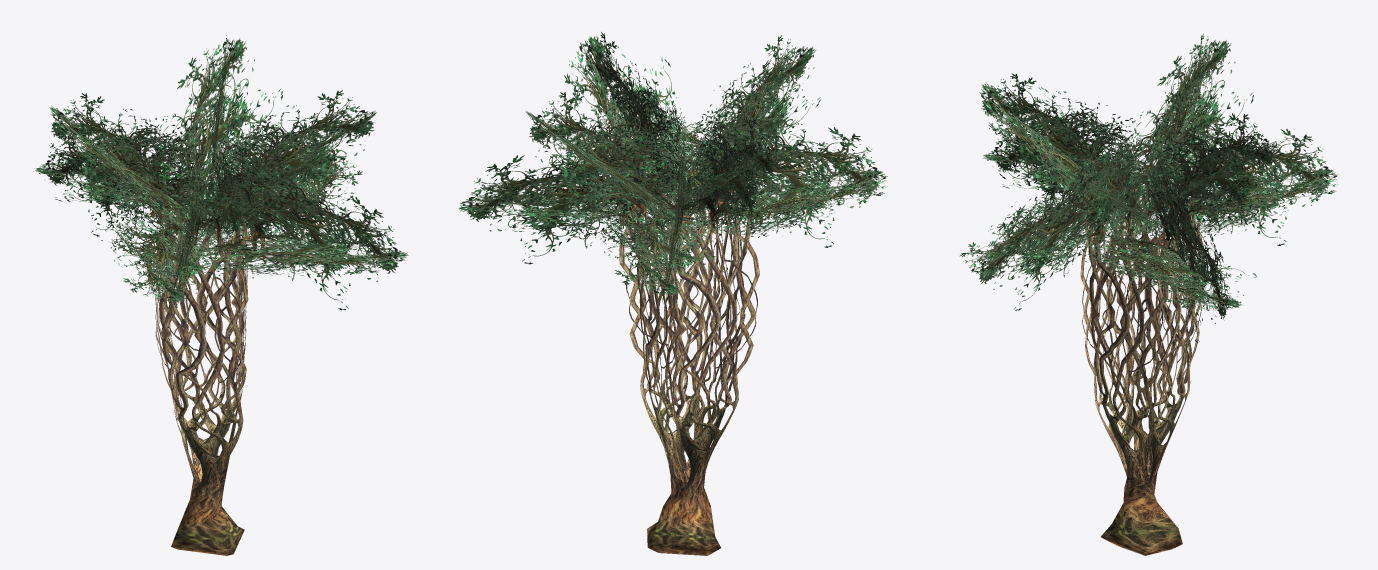
Rendered from decd_flutevine_a1_l1.fbx.
3 views of the same model, side by side, from view 1: azimuth 30°, elevation 25°; view 2: azimuth 150°, elevation 25°; view 3: azimuth 270°, elevation 25° (orthographic). The views are drawn at different scales.
Parts seen in each view (by area): view 1: mesh_node; view 2: mesh_node; view 3: mesh_node.
Boxes of the visible parts, <box> form: mesh_node: <box>33,35,408,555</box>; mesh_node: <box>458,32,887,555</box>; mesh_node: <box>959,33,1338,555</box>.
Size of the model in its own units: 14.29 by 18.61 by 15.01.
